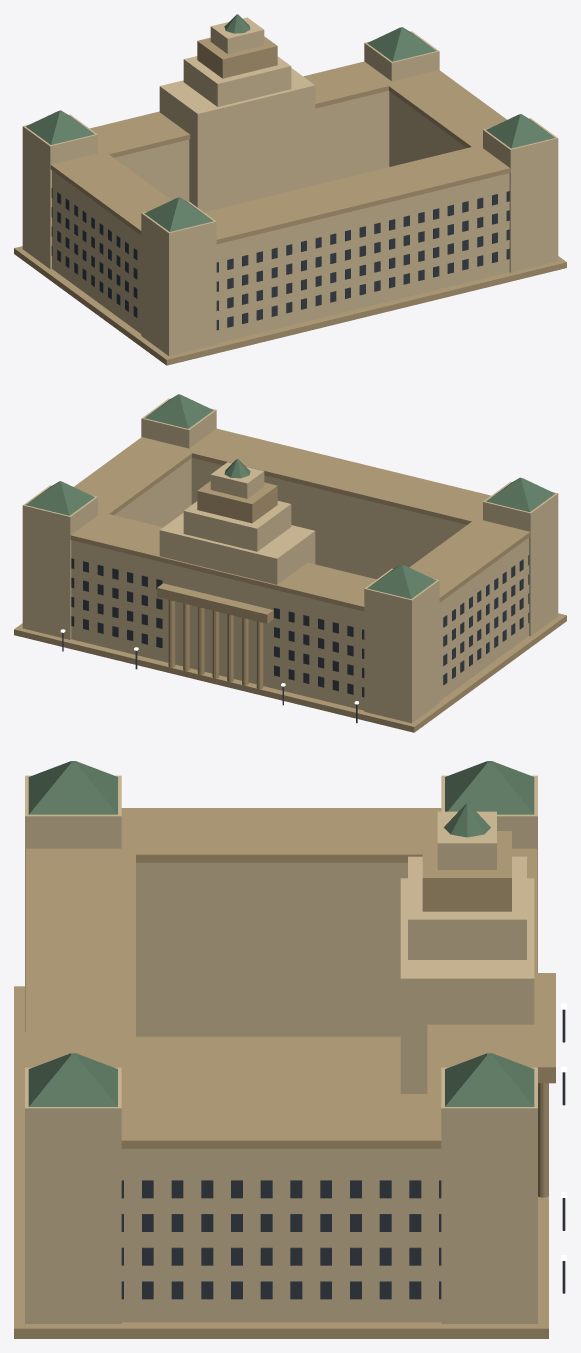
The model's file is casa-gobierno.glb.
3 renders of one model, top to bottom at view 1: azimuth 30°, elevation 25°; view 2: azimuth 150°, elevation 25°; view 3: azimuth 270°, elevation 25°, orthographic. The views are drawn at different scales.
Visible parts, largest first — view 1: casa-gobierno; view 2: casa-gobierno; view 3: casa-gobierno.
Boxes of the visible parts, box(x1,y1,x2,y2) form: casa-gobierno: box(14, 14, 566, 365); casa-gobierno: box(14, 394, 566, 732); casa-gobierno: box(14, 761, 566, 1338).
Bounding box in the file's own units: 109 × 54 × 74.4.
